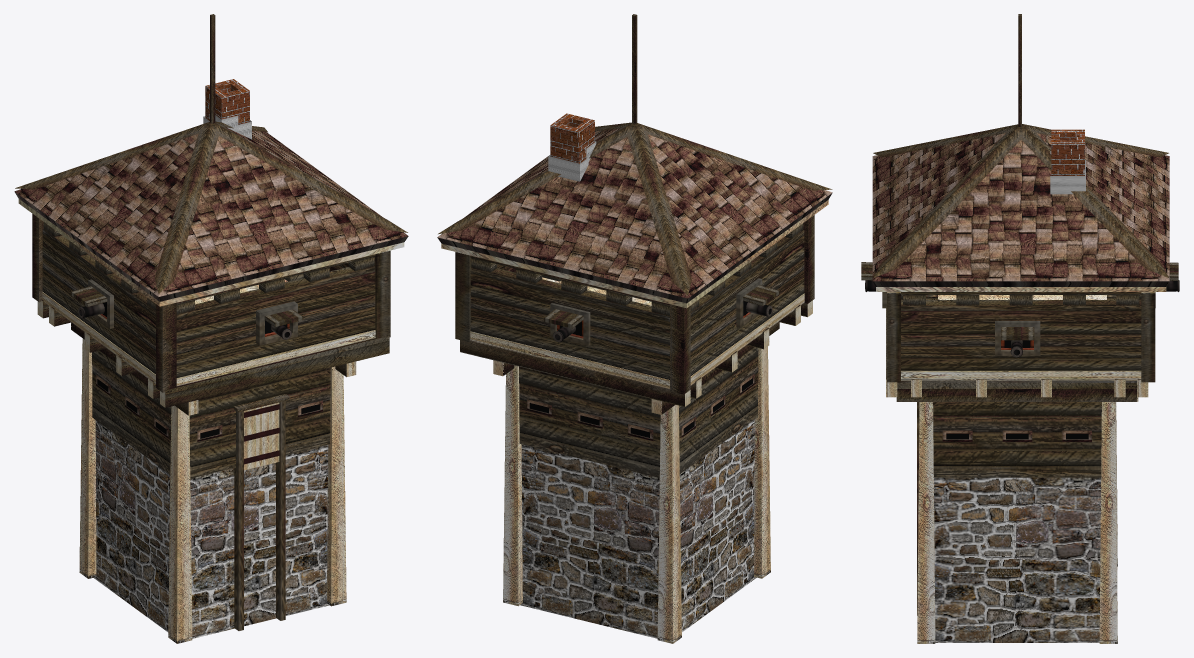
The model's file is brit_blockhouse.dae.
3 renders of one model, left to right at view 1: azimuth 30°, elevation 25°; view 2: azimuth 150°, elevation 25°; view 3: azimuth 270°, elevation 25°, orthographic. The views are drawn at different scales.
Parts seen in each view (by area): view 1: BRITBlockout; view 2: BRITBlockout; view 3: BRITBlockout.
Boxes of the visible parts, x1=… form: BRITBlockout: x1=14, y1=14, x2=408, y2=643; BRITBlockout: x1=437, y1=14, x2=832, y2=643; BRITBlockout: x1=861, y1=14, x2=1179, y2=643.
Bounding box in the file's own units: 15.43 × 15.48 × 31.65.
